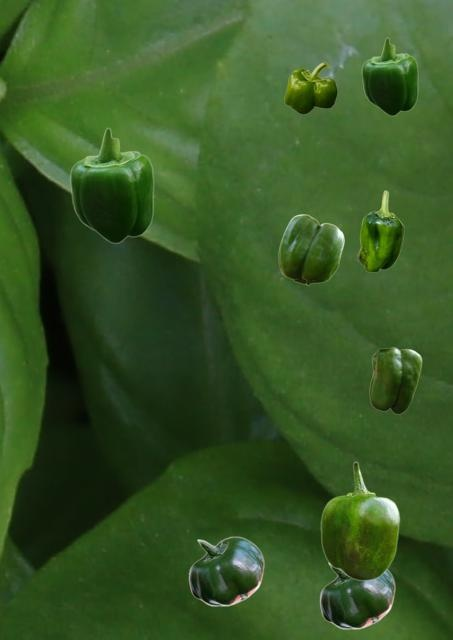bell_pepper: (69, 127, 153, 243), (320, 461, 399, 580), (188, 536, 263, 605), (319, 563, 394, 628), (278, 214, 343, 284), (361, 37, 417, 115), (357, 190, 403, 271), (369, 347, 421, 413), (284, 62, 336, 113)
